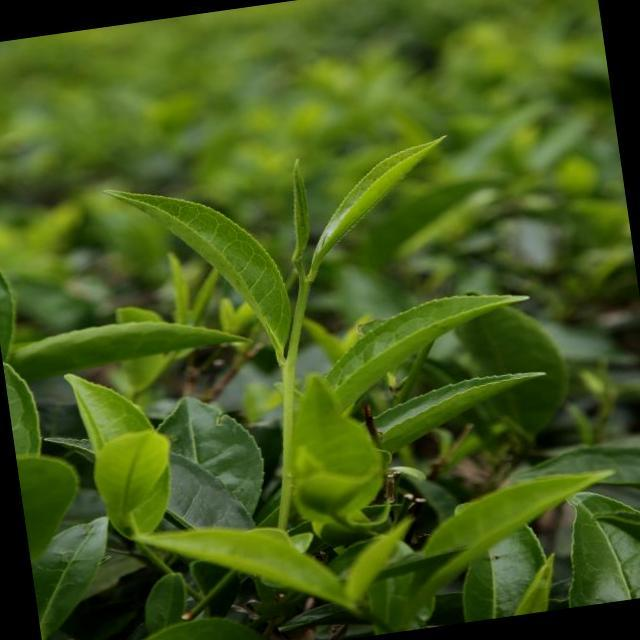Stem: (299, 278, 314, 296)
